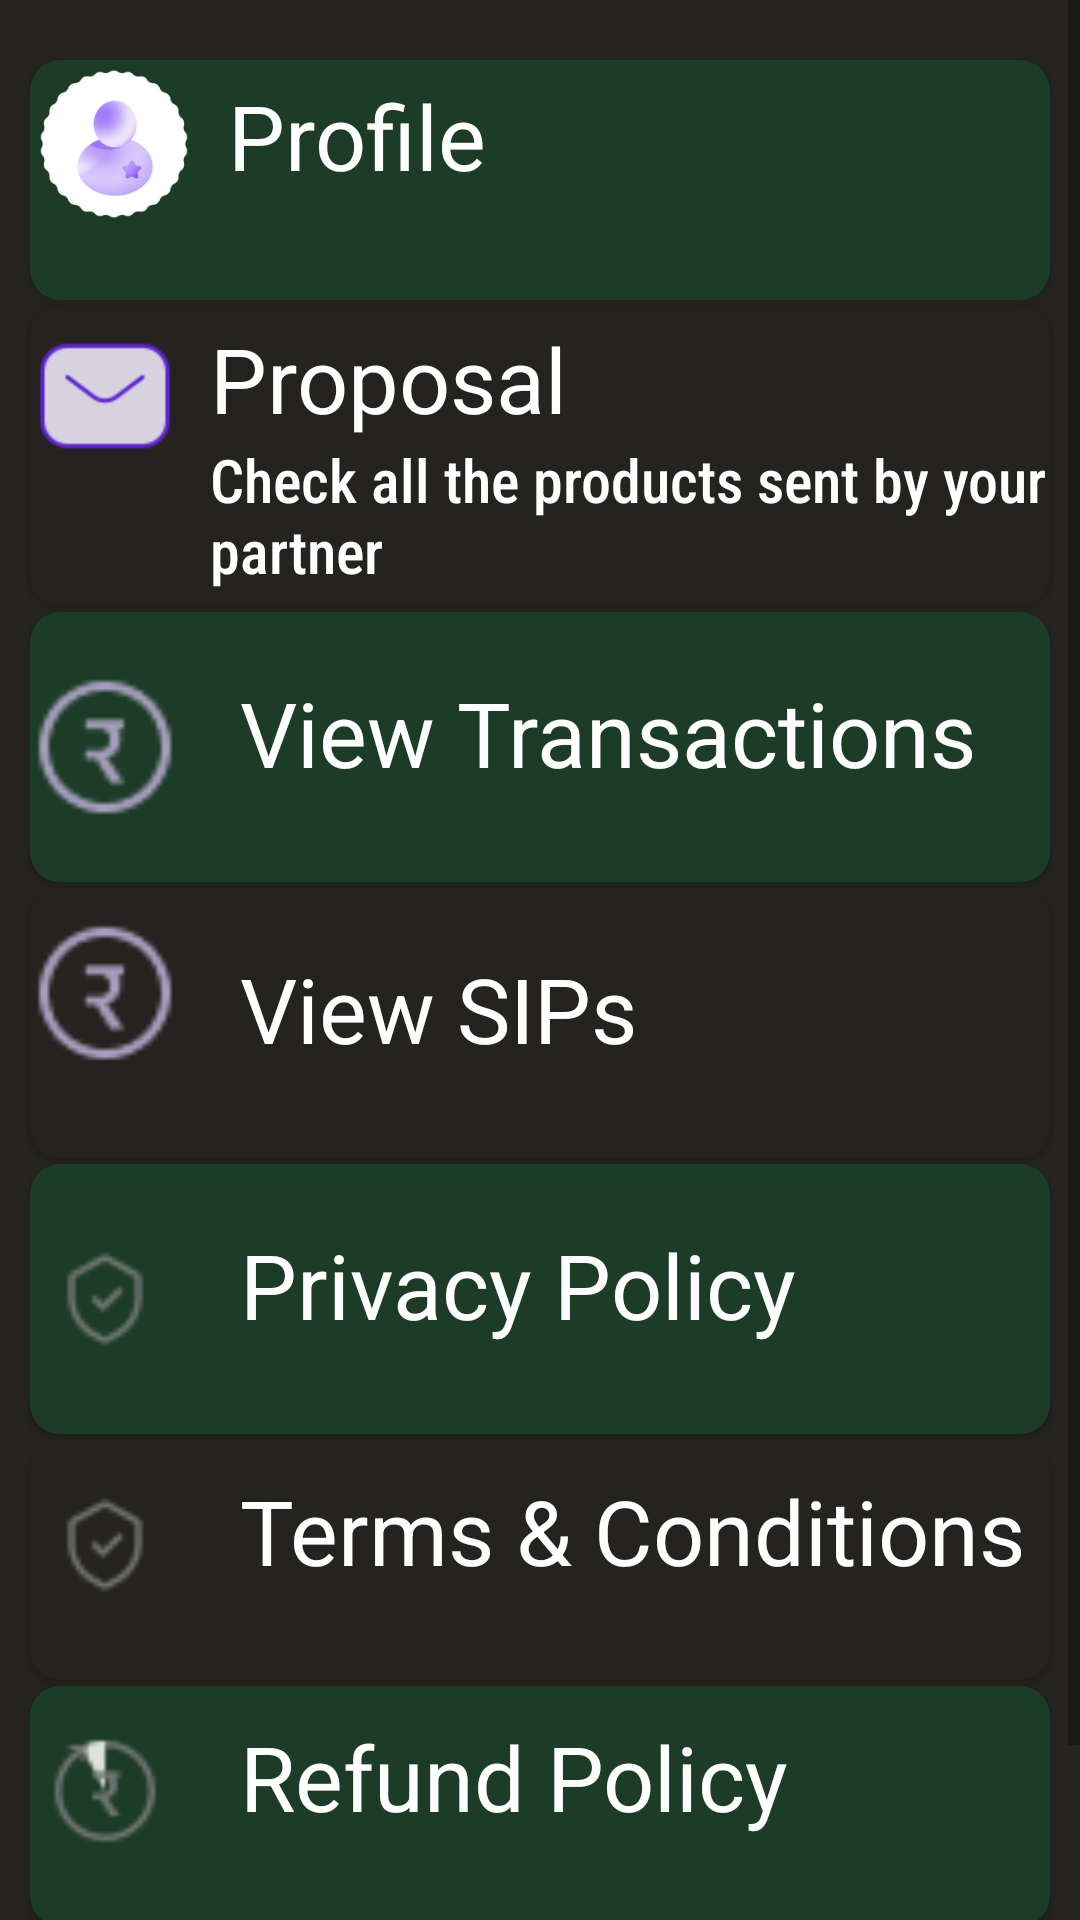

Where to tap for icons on this 1080×1920 app screen, as (x=x, y=y):
rupee: (x=105, y=747), (x=105, y=993)
